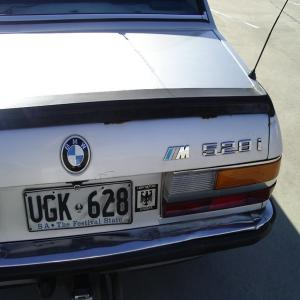Vehicle-registration-plate: (27, 189, 139, 238)
